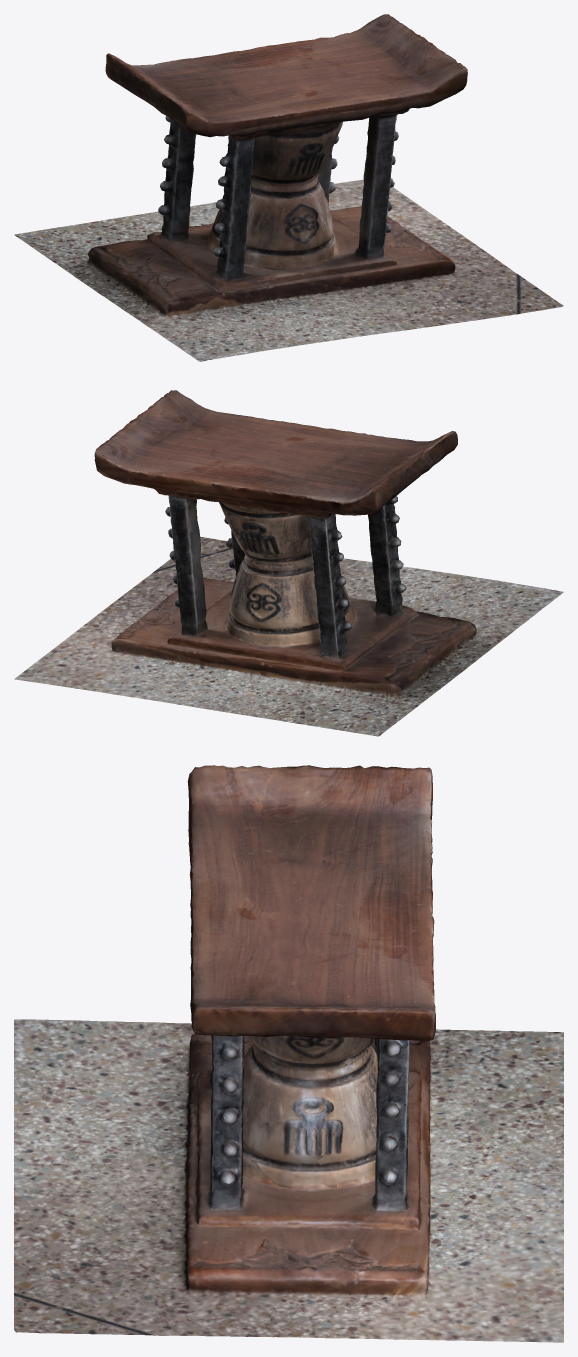
Rendered from stool-test-lite.glb.
The picture shows the model from 3 angles, top to bottom: view 1: azimuth 30°, elevation 25°; view 2: azimuth 150°, elevation 25°; view 3: azimuth 270°, elevation 25°; orthographic projection. The views are drawn at different scales.
Bounding box in the file's own units: 1 × 0.6181 × 0.8825.
1 material, 1 textured.
